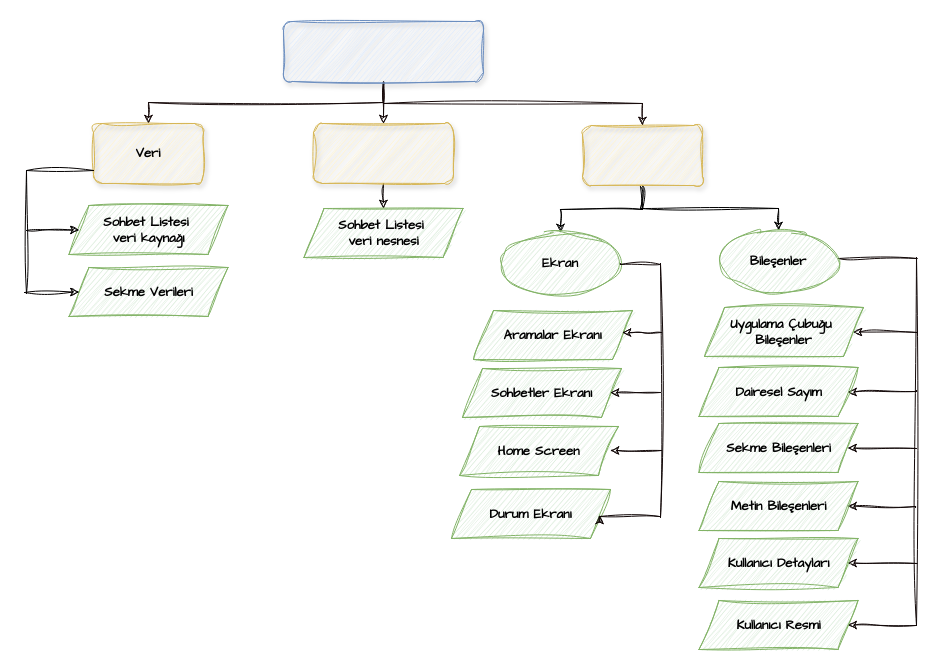
Image size: 943x667. Some labels were removed from this diagram. The centre of each missing label's shape, as x and y in pixels:
"Domain" belongs at pixel 384 154.
"Mesaj App" belongs at pixel 384 52.
"Ui" belongs at pixel 643 156.
